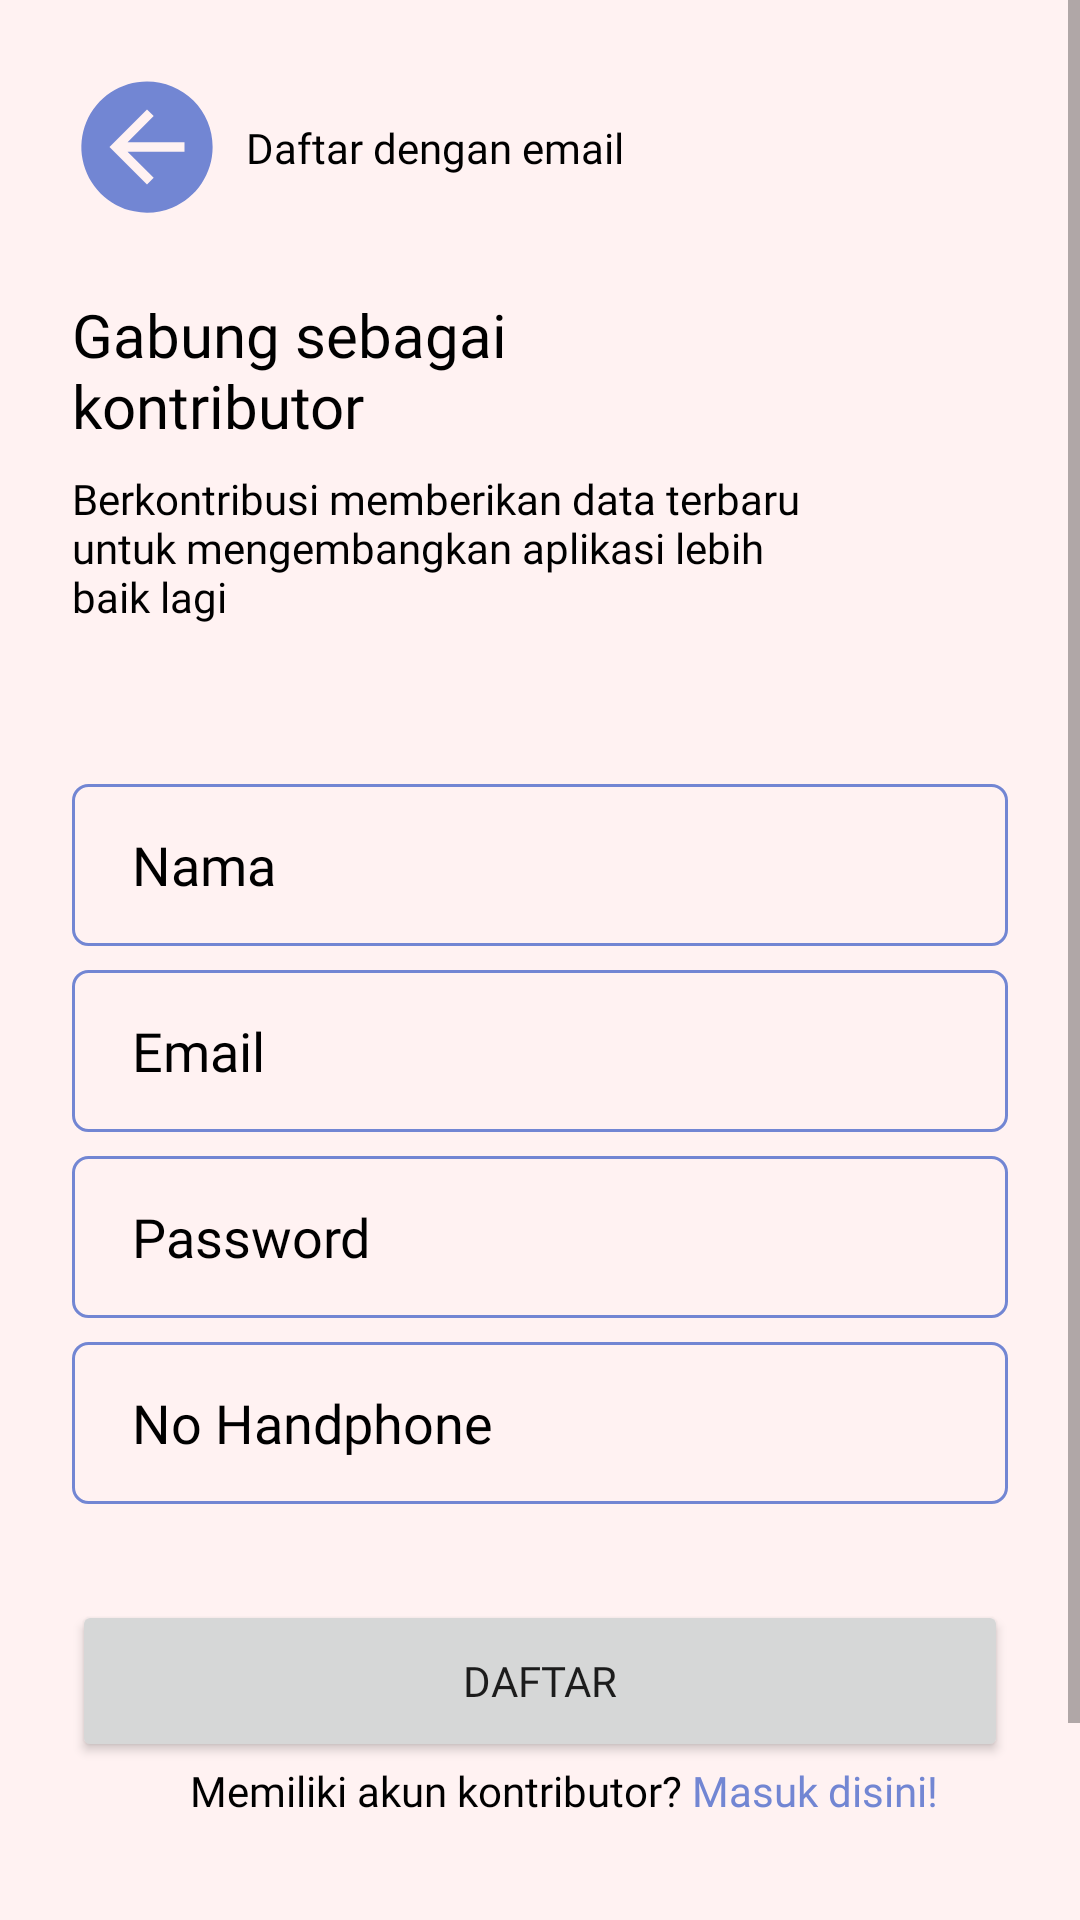

Screen size 1080px×1920px. Icon name, then its center in pixels as (x=x, y=y):
back: (x=147, y=147)
